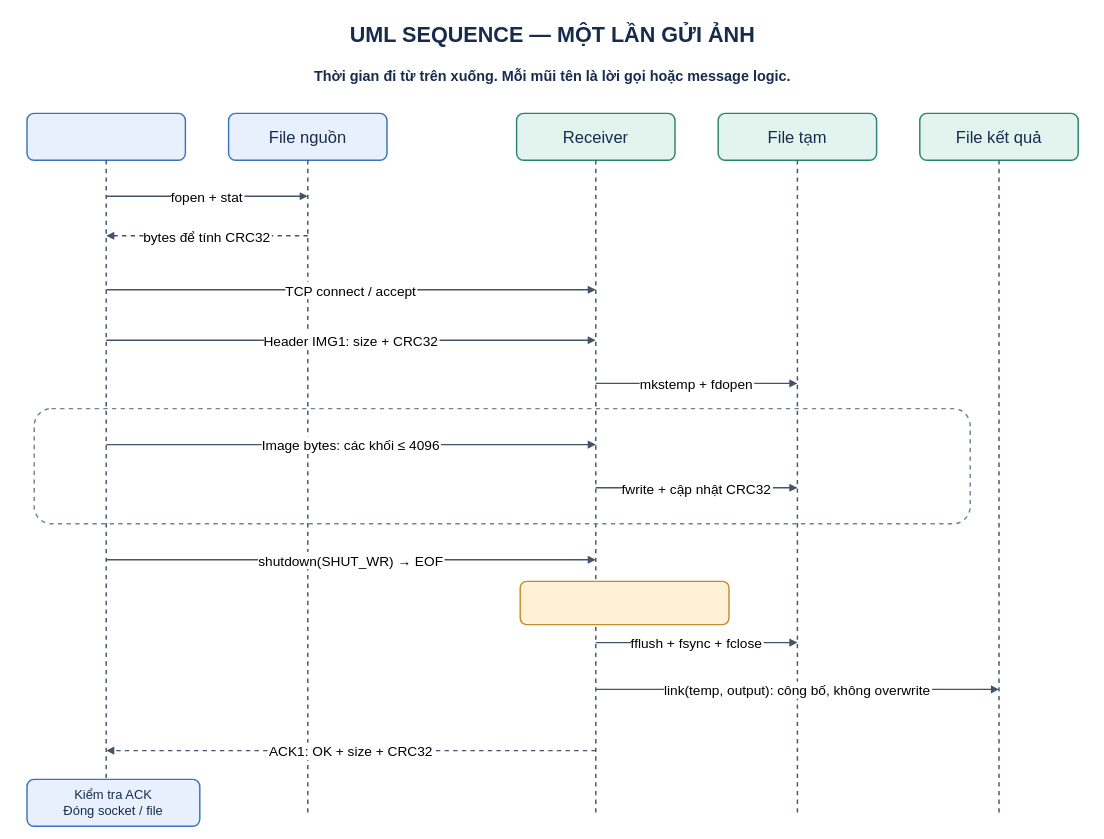
This 1104x839 diagram has some shape labels left out. The shapes that lost their labels are listed below. From the top down, each one's centre as x and y in pixels, then its label:
At point (106, 136): "Sender".
At point (502, 466): "LOOP: dữ liệu ảnh".
At point (624, 602): "Kiểm tra đủ size, EOF và CRC32 khớp".
